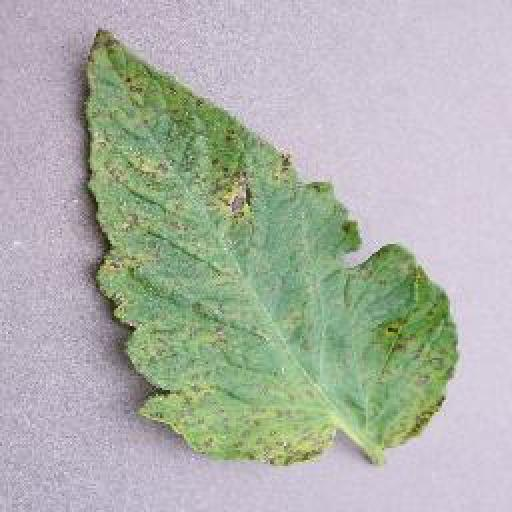Septoria: (86, 30, 459, 466)
